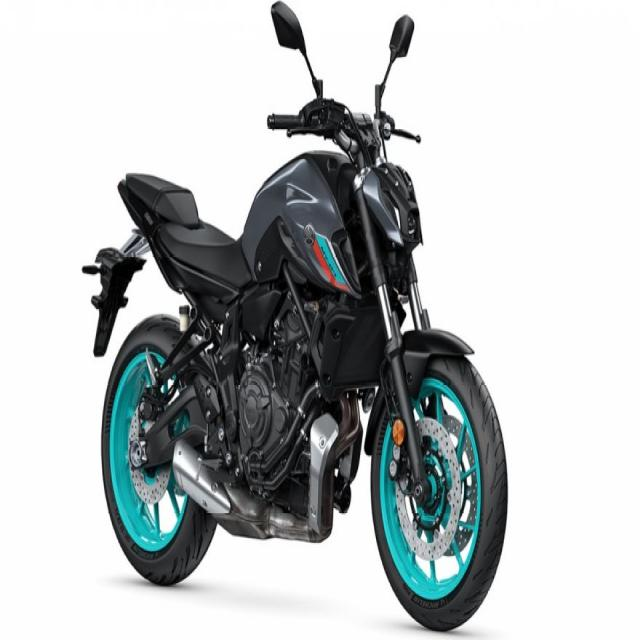Bike: (80, 3, 510, 634)
